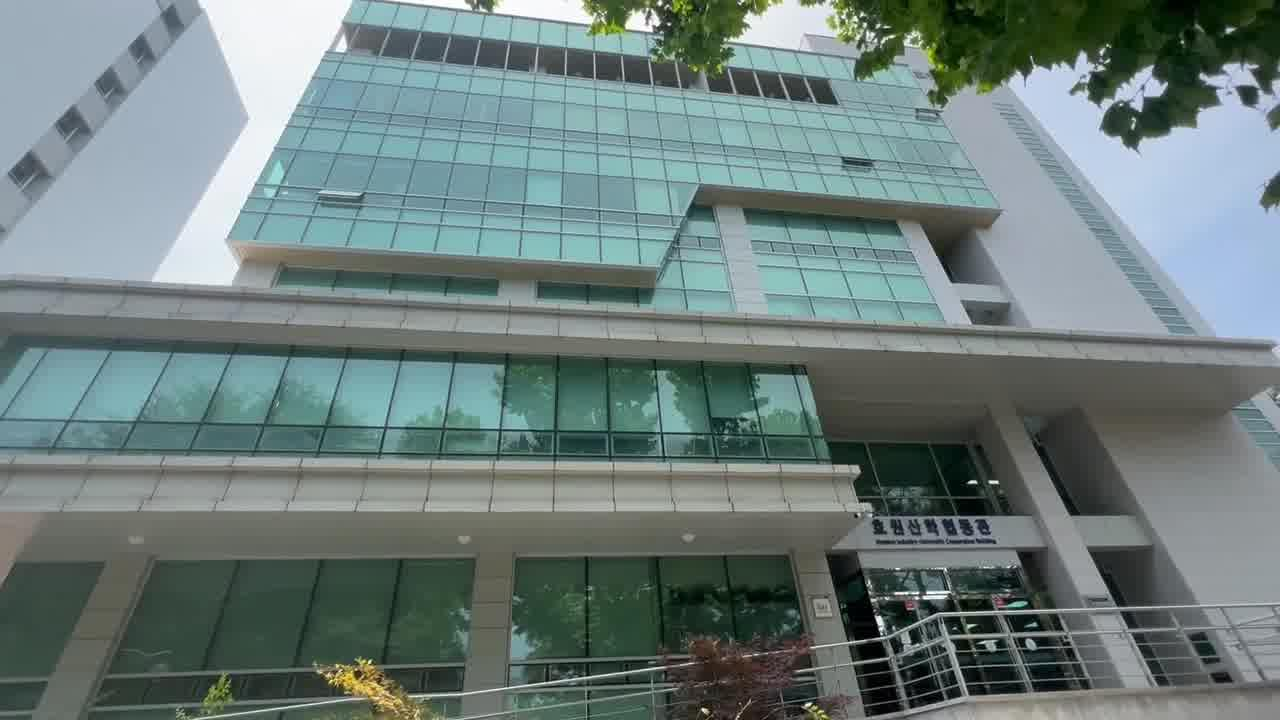building: (241, 81, 1218, 654)
